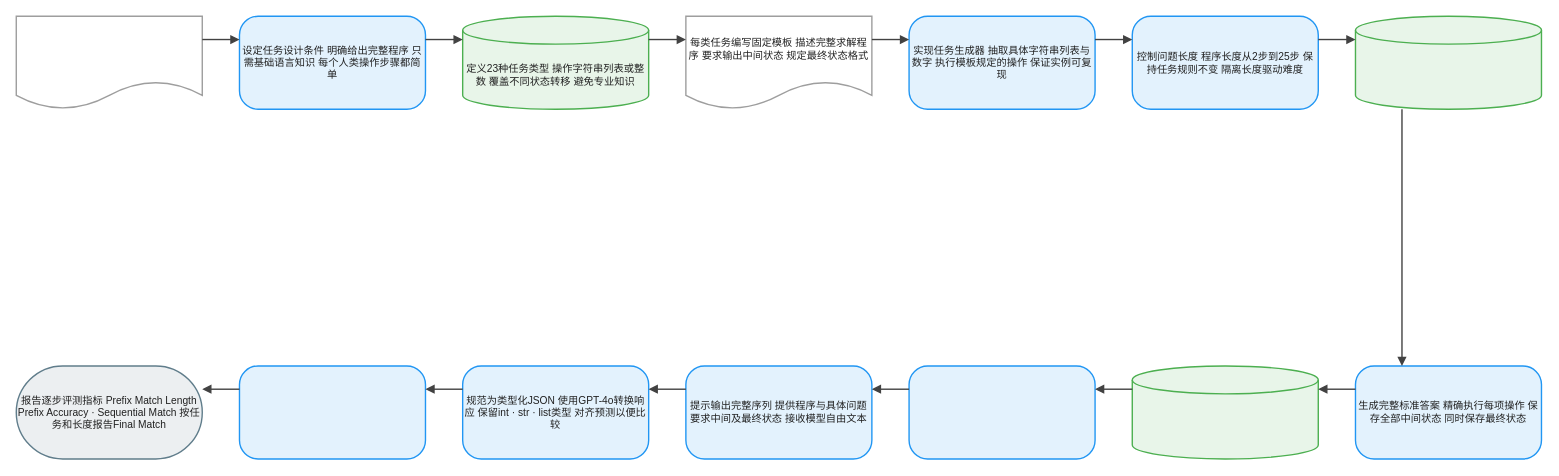
This 1559x476 diagram has some shape labels left out. The shapes that lost their labels are listed below. From the top down, each one's centre as x and y in pixels, then its label:
the point at 109,62: 隔离指令可遵循性 尽量去除路径搜索 最小化隐式领域知识 直接评估多步执行
the point at 1448,62: 每个步数抽十例 覆盖全部24种长度 每类任务内长度平衡 每类任务产生240例
the point at 332,412: 精确比较状态序列 查找最长匹配前缀 惩罚过度与不足预测 检查最终和完整序列
the point at 1001,412: 定义长度分组 短：2至6步 中：7至16步 长：17至25步
the point at 1225,412: 冻结基准数据 组合模板与具体问题 23类任务×每类240例 发布共5,520例
